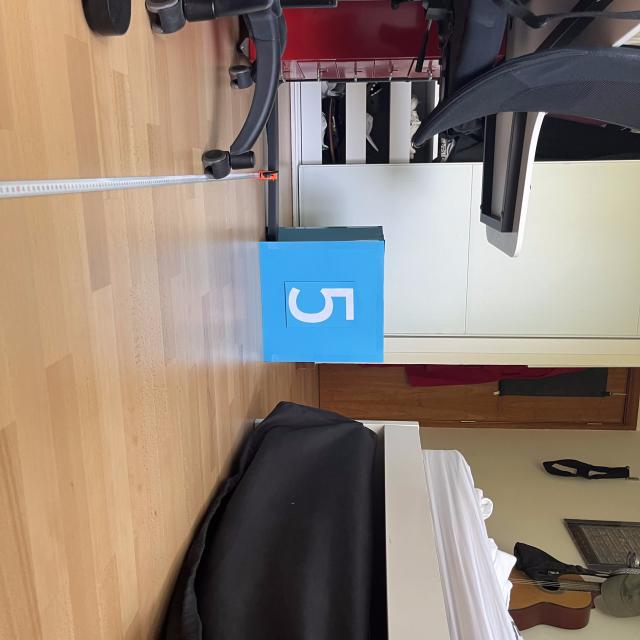box: (254, 223, 388, 365)
